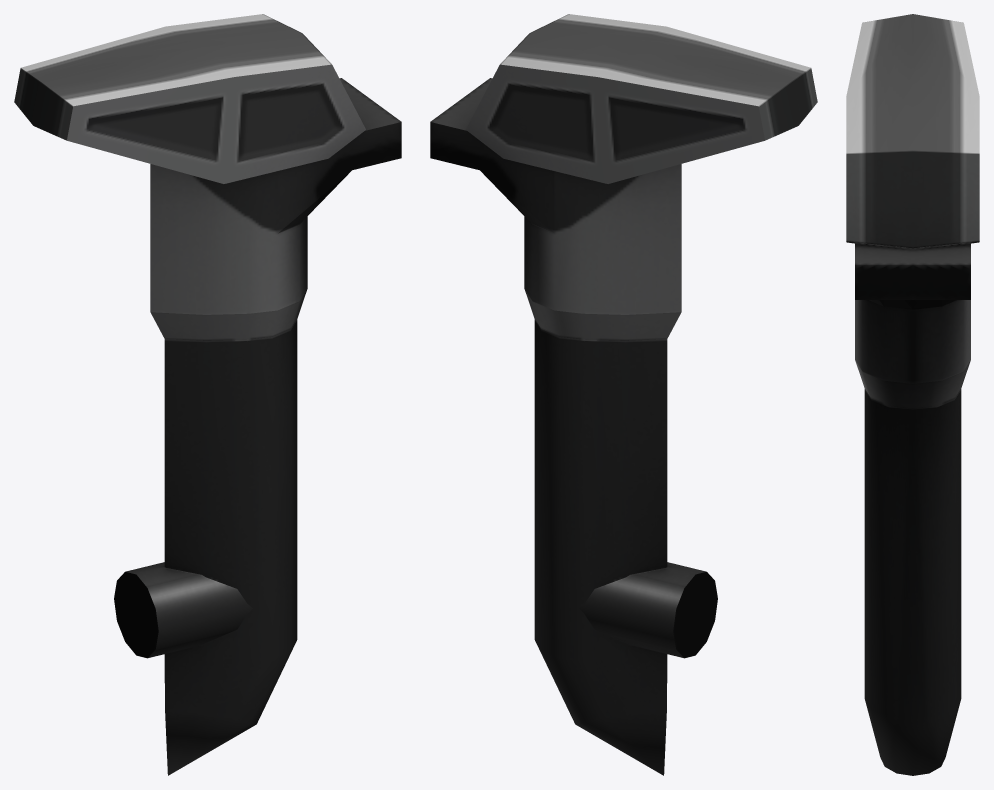
File: engine.dae
3 views of the same model, side by side, from view 1: azimuth 30°, elevation 25°; view 2: azimuth 150°, elevation 25°; view 3: azimuth 270°, elevation 25° (orthographic). The views are drawn at different scales.
Visible parts, largest first — view 1: Engine_Left; view 2: Engine_Left; view 3: Engine_Left.
Boxes of the visible parts, x1=… form: Engine_Left: x1=14, y1=14, x2=401, y2=775; Engine_Left: x1=430, y1=14, x2=817, y2=775; Engine_Left: x1=846, y1=14, x2=979, y2=775.
Bounding box in the file's own units: 0.443 × 0.1566 × 0.9065.
1 material, 1 textured.
